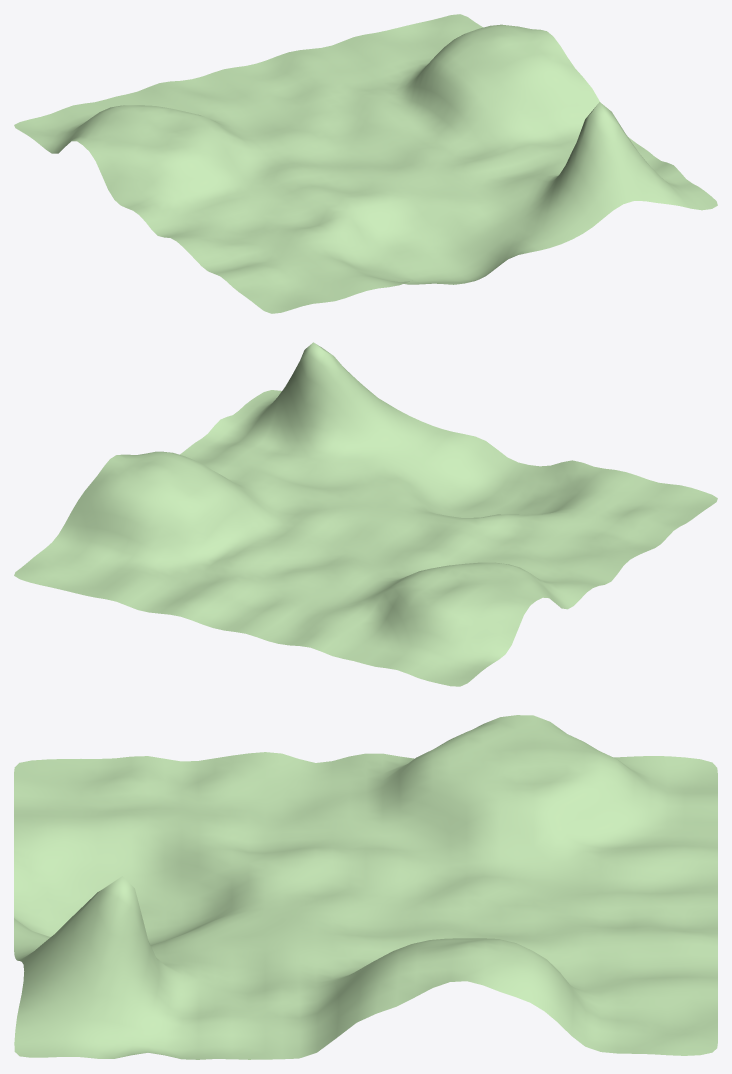
The model's file is b3d_env_Terrain.glb.
The picture shows the model from 3 angles, top to bottom: view 1: azimuth 30°, elevation 25°; view 2: azimuth 150°, elevation 25°; view 3: azimuth 270°, elevation 25°; orthographic projection. The views are drawn at different scales.
Visible parts, largest first — view 1: Plane; view 2: Plane; view 3: Plane.
Boxes of the visible parts, bbox=[...] form: Plane: bbox=[14, 14, 717, 313]; Plane: bbox=[14, 342, 717, 686]; Plane: bbox=[14, 715, 717, 1059].
Bounding box in the file's own units: 200 × 52.72 × 200.
